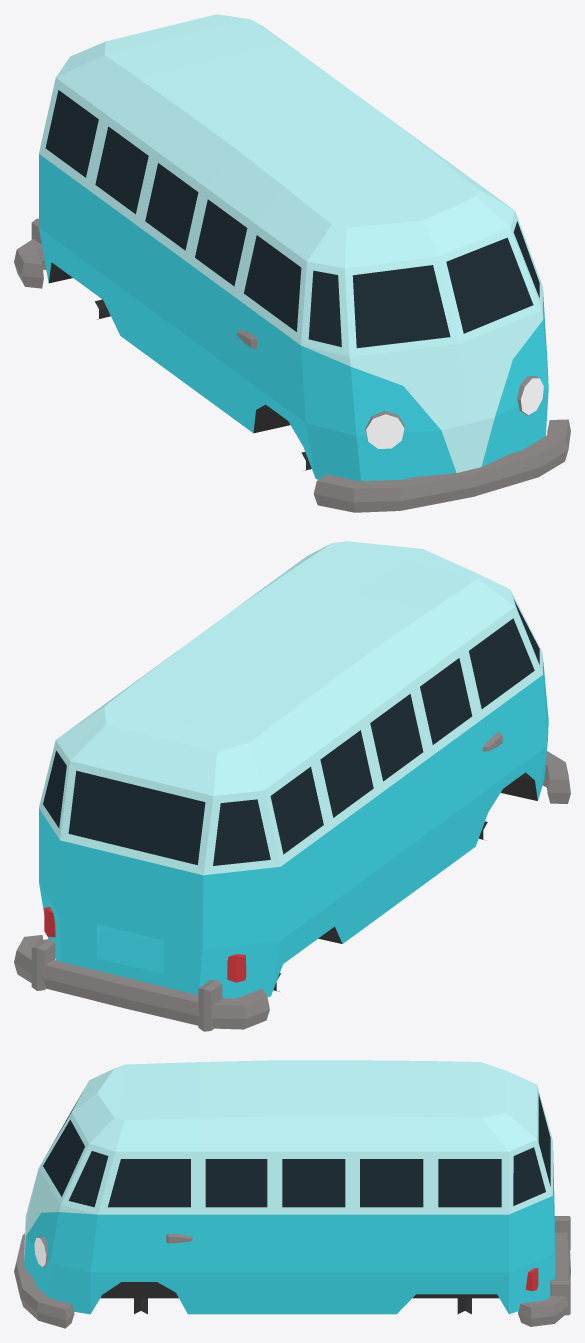
The model's file is car-hippie-van-base.glb.
3 renders of one model, top to bottom at view 1: azimuth 30°, elevation 25°; view 2: azimuth 150°, elevation 25°; view 3: azimuth 270°, elevation 25°, orthographic. The views are drawn at different scales.
Visible parts, largest first — view 1: car-hippie-van-base; view 2: car-hippie-van-base; view 3: car-hippie-van-base.
Boxes of the visible parts, x1,y1,x2,y2 form: car-hippie-van-base: [14, 14, 570, 512]; car-hippie-van-base: [14, 541, 570, 1031]; car-hippie-van-base: [14, 1060, 570, 1328].
Bounding box in the file's own units: 1.83 × 1.73 × 4.38.
1 material, 1 textured.
